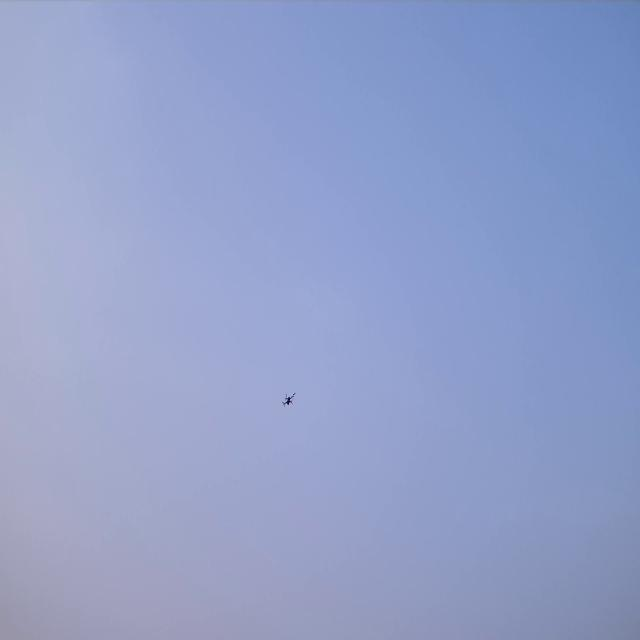UAV: (281, 390, 296, 408)
